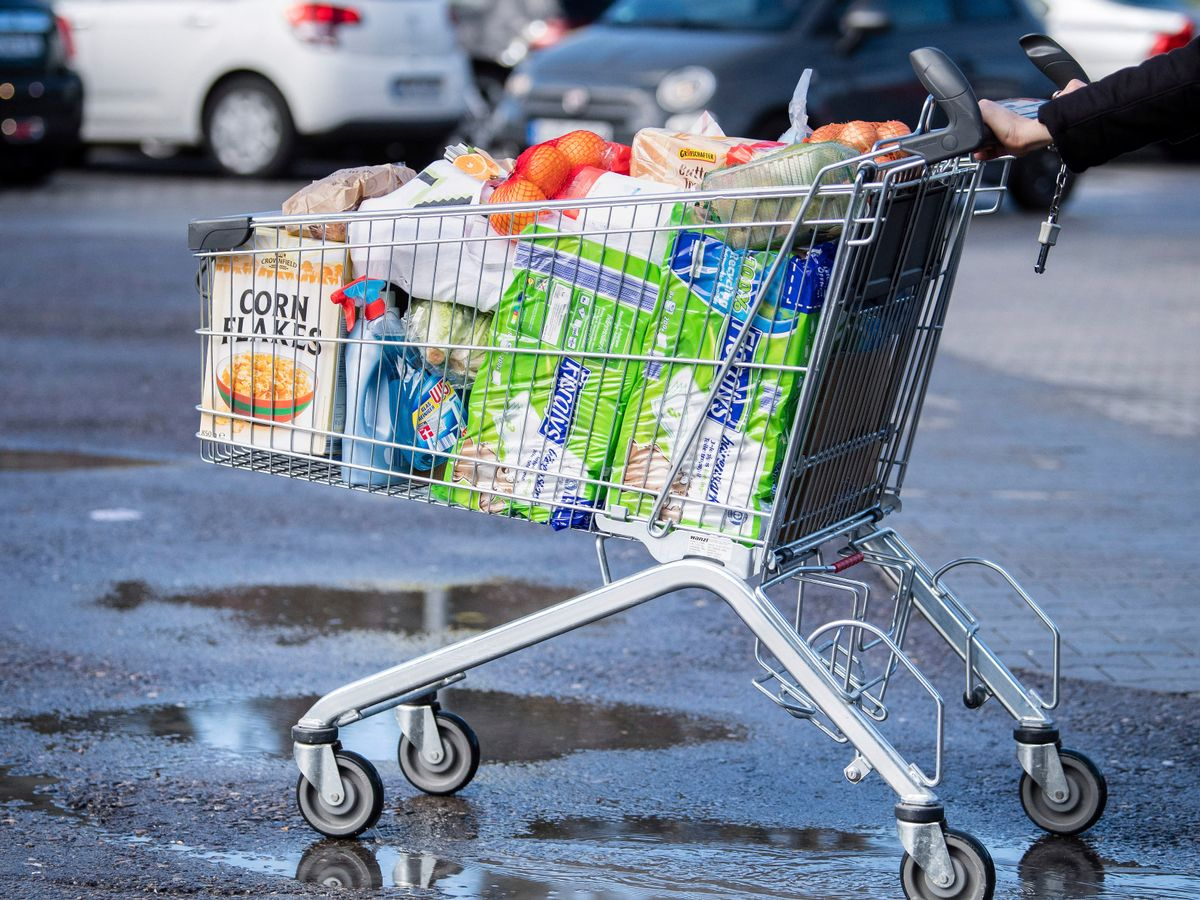with_basket: (176, 41, 1128, 888)
